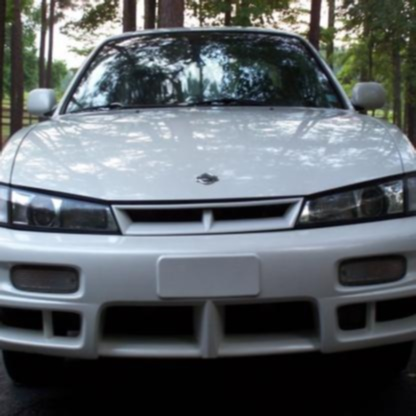Vehicle: (0, 30, 416, 384)
